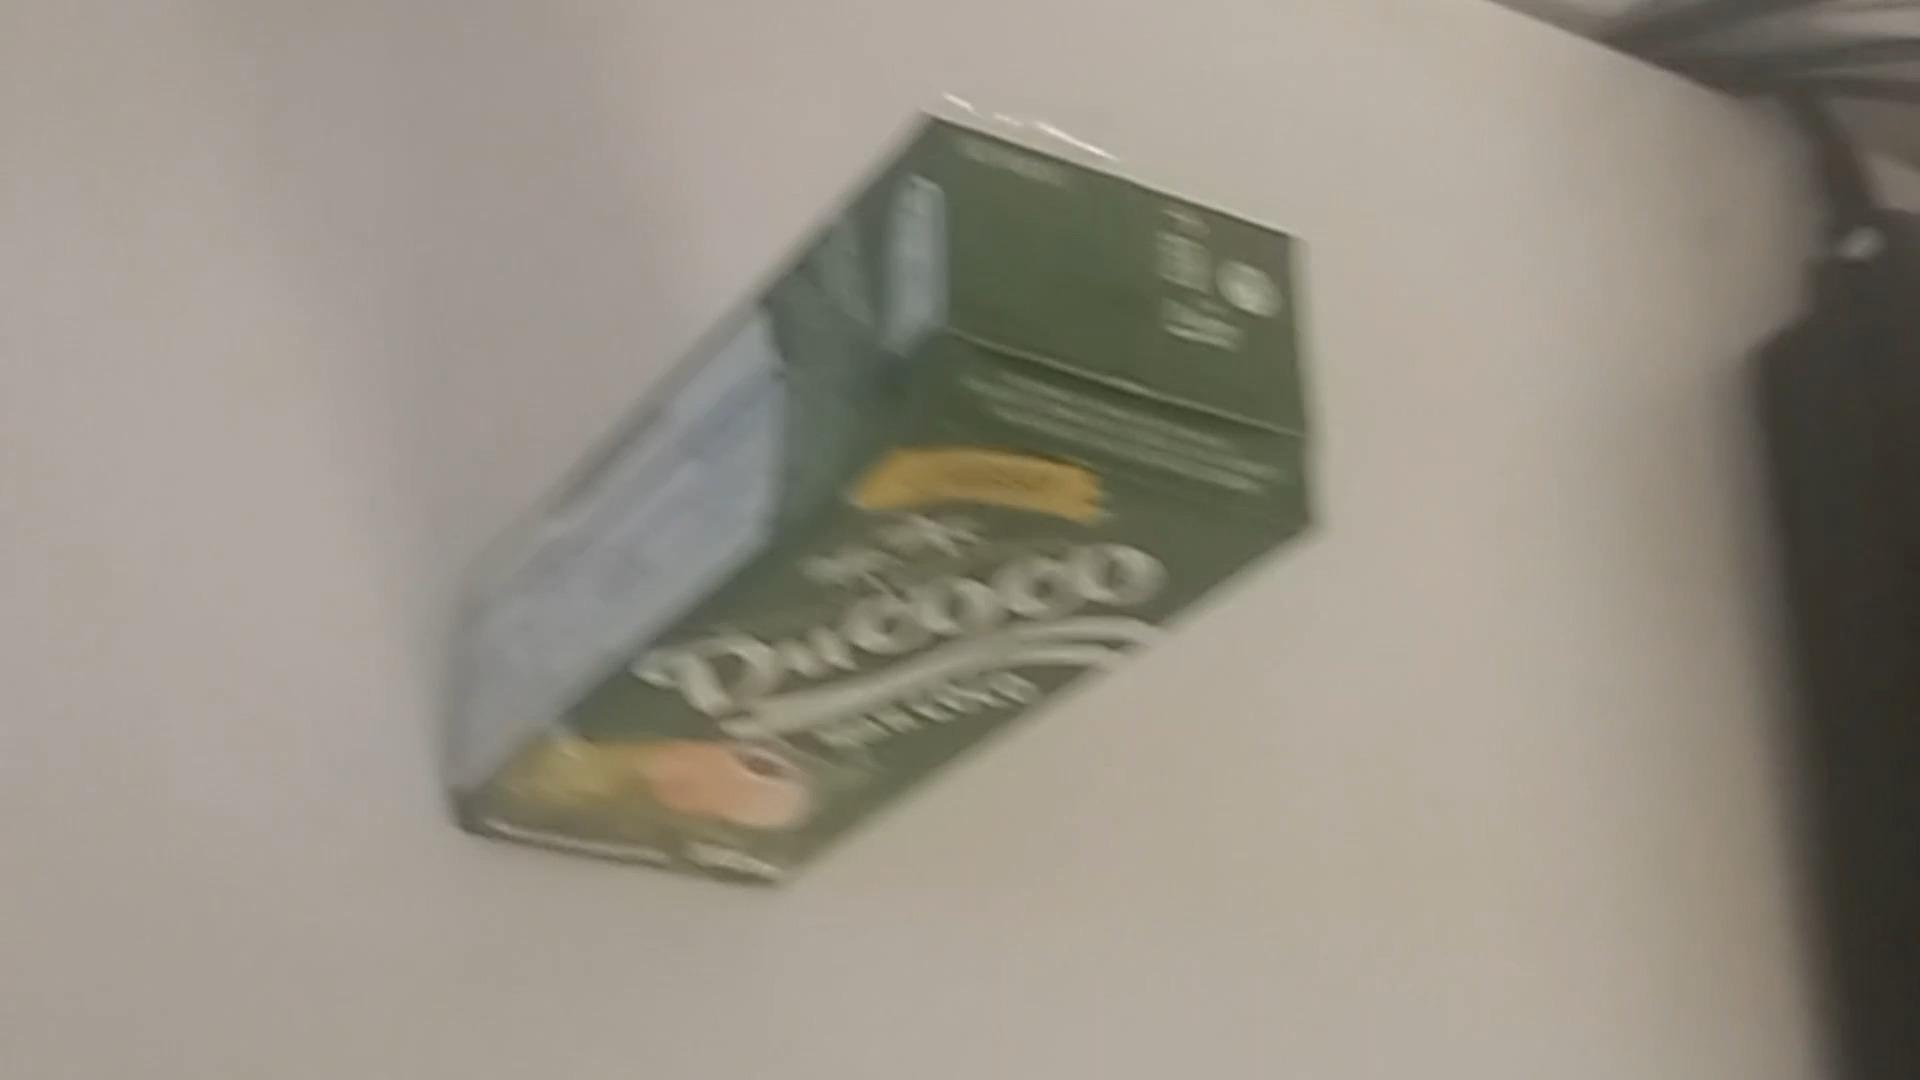coco: (442, 100, 1315, 898)
